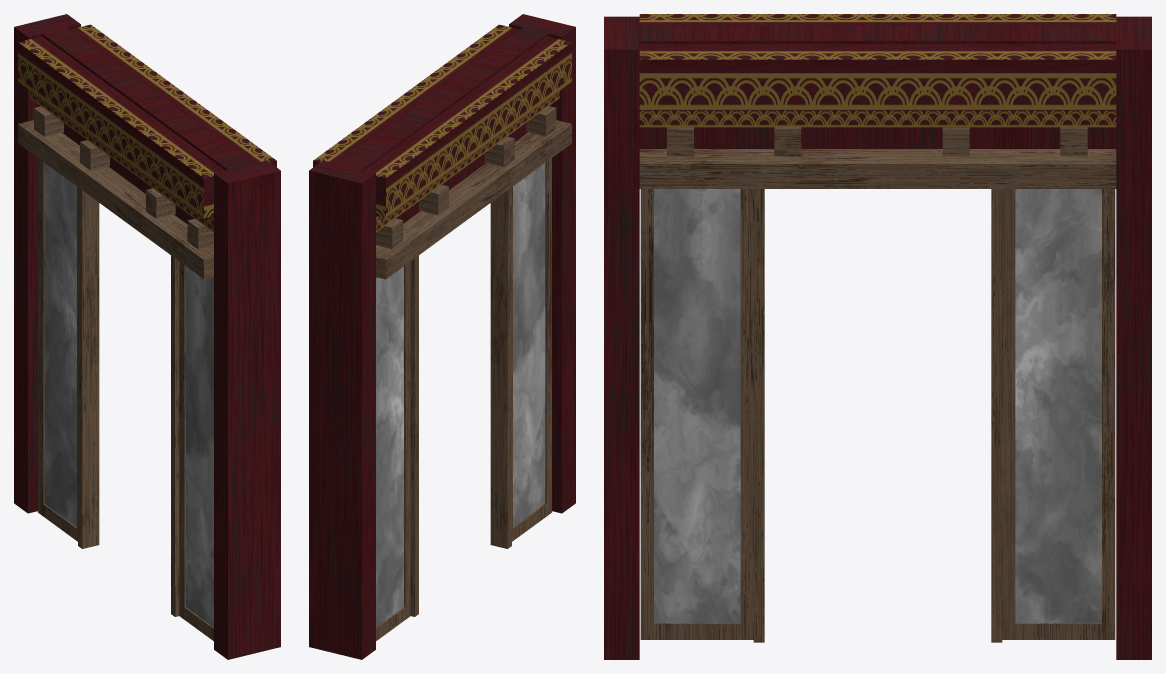
The model's file is SM_door.fbx.
3 views of the same model, side by side, from view 1: azimuth 30°, elevation 25°; view 2: azimuth 150°, elevation 25°; view 3: azimuth 270°, elevation 25° (orthographic). The views are drawn at different scales.
Parts seen in each view (by area): view 1: SM_door; view 2: SM_door; view 3: SM_door.
Part boxes in pixels (x1,y1,x2,y2): SM_door: (14,14,280,659); SM_door: (309,14,575,659); SM_door: (604,14,1151,659).
Bounding box in the file's own units: 59.02 × 300 × 370.
4 materials, 4 textured.
